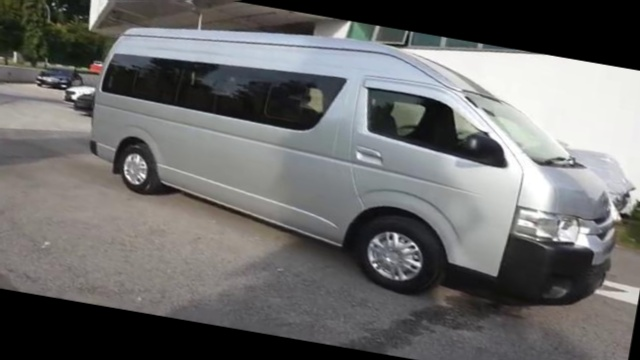van: (73, 0, 640, 327)
